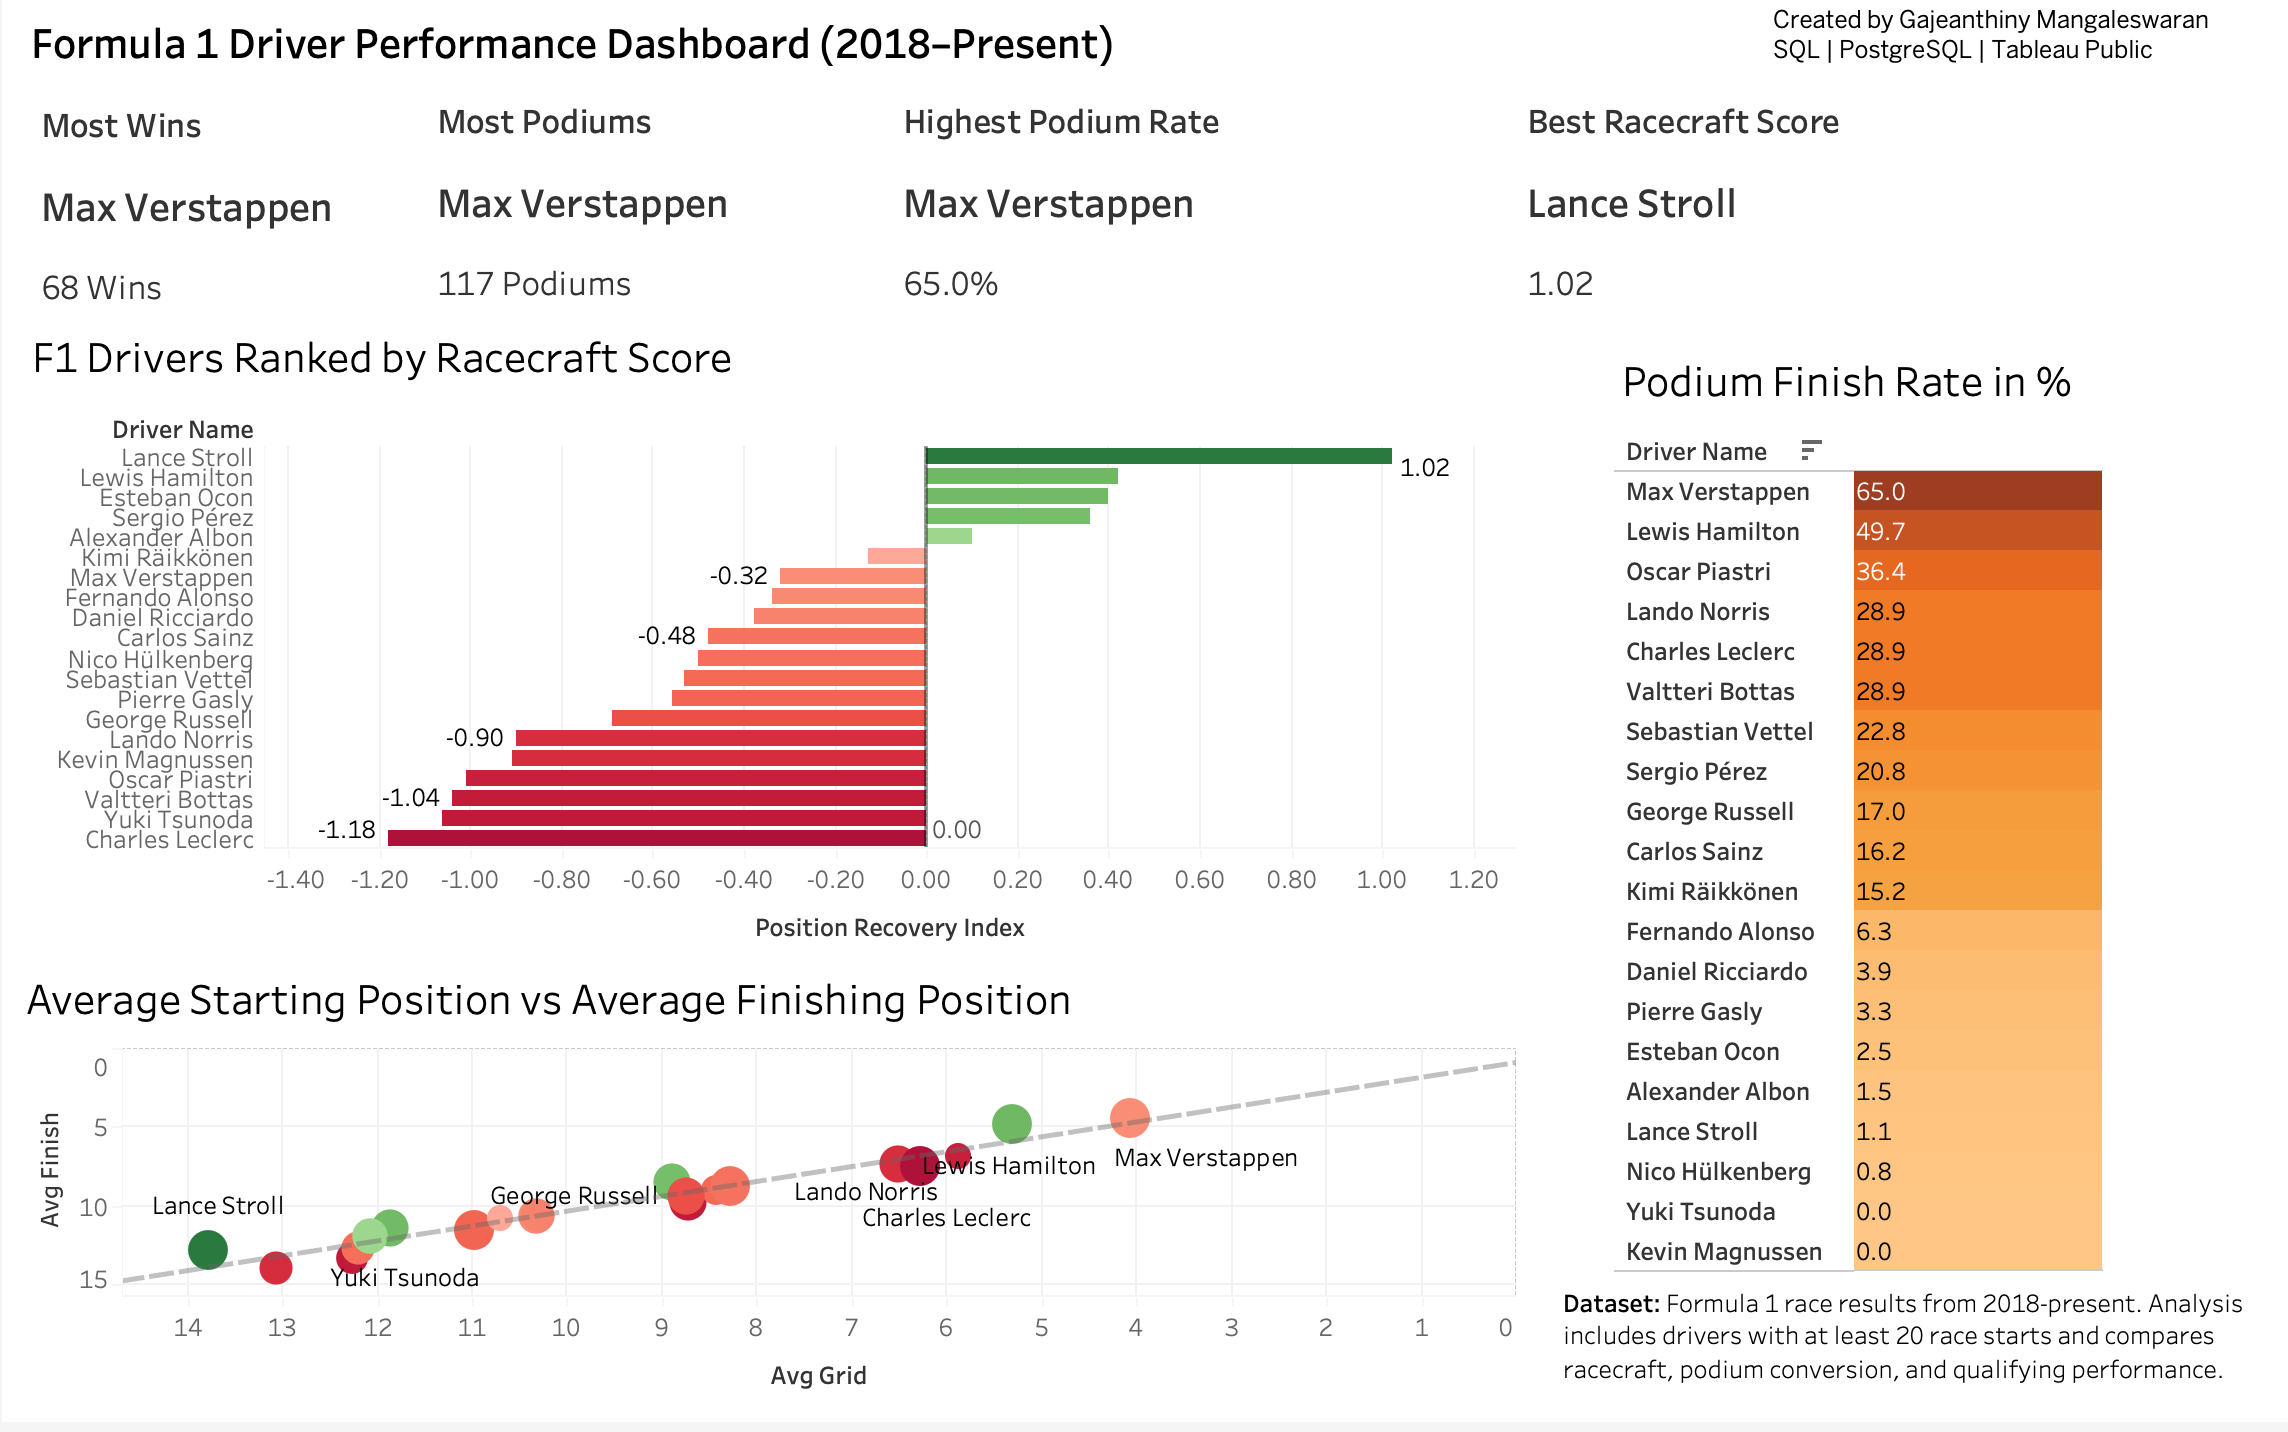

The page's visual inventory and layout, read from the dashboard file:
{"tool":"tableau","page":{"name":"Dashboard 1","canvas":[1000,1000],"units":"permille","ordinal":0},"visuals":[{"type":"text","box":[771.2,7,225.3,44.8]},{"type":"title","box":[7,11.2,986,44.8]},{"type":"worksheet","title":"Most Podium","mark":"Text","box":[186,68.6,251.5,179.3]},{"type":"worksheet","title":"Most Wins","mark":"Text","box":[12.9,70,175.8,158.3]},{"type":"worksheet","title":"Highest Podium Rate","mark":"Text","box":[389.5,72.8,257.6,175.1]},{"type":"worksheet","title":"Best Racecraft Score","mark":"Text","box":[662,72.8,255,179.3]},{"type":"worksheet","title":"Racecraft Score","mark":"Automatic","rows":["Calculation_544794835715448833"],"cols":["racecraft_score"],"box":[9.6,228.3,651.5,446.8]},{"type":"worksheet","title":"Podium Conversion","mark":"Square","rows":["Calculation_544794835715448833"],"box":[704,245.1,213.7,652.7]},{"type":"worksheet","title":"Grid vs Finish ","mark":"Circle","rows":["avg_finish"],"cols":["avg_grid"],"box":[7.3,677.9,654,310.9]},{"type":"text","box":[679.8,896.4,308.1,86.8]}]}

Visuals, with their boxes on the dashboard's canvas, which has no fixed pixel size, in thousandths of its width and height (x1, y1, x2, y2). These are canvas units, not pixel positions in the 2288x1432 screenshot, which may show the page scaled, cropped or inside an application window:
text: (771,7,996,52)
title: (7,11,993,56)
"Most Podium" worksheet (Text marks): (186,69,438,248)
"Most Wins" worksheet (Text marks): (13,70,189,228)
"Highest Podium Rate" worksheet (Text marks): (390,73,647,248)
"Best Racecraft Score" worksheet (Text marks): (662,73,917,252)
"Racecraft Score" worksheet: (10,228,661,675)
"Podium Conversion" worksheet (Square marks): (704,245,918,898)
"Grid vs Finish " worksheet (Circle marks): (7,678,661,989)
text: (680,896,988,983)
